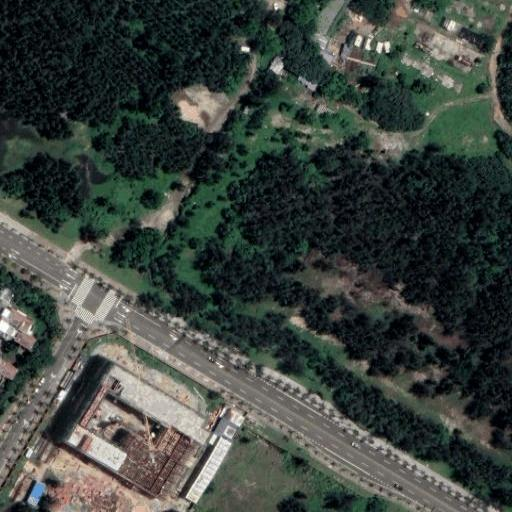building: (64, 363, 214, 497), (183, 434, 232, 504), (0, 297, 41, 344), (262, 49, 288, 76), (211, 416, 238, 440), (0, 355, 18, 389), (26, 481, 48, 506)
